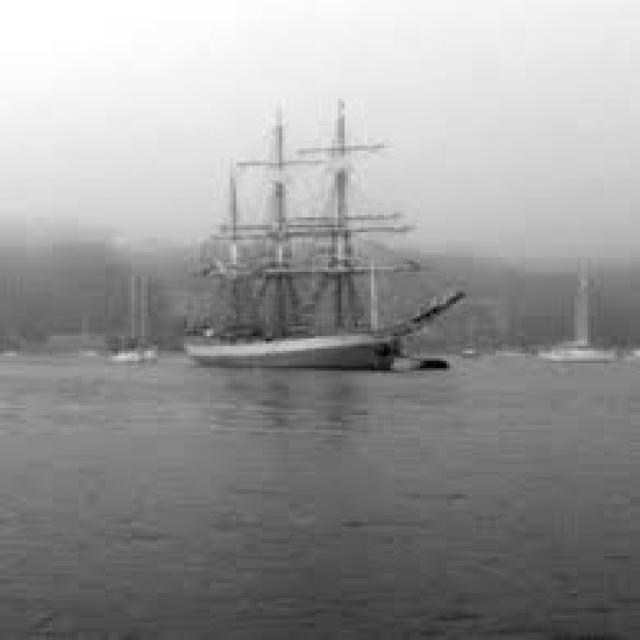fishing boat: (165, 95, 453, 373)
